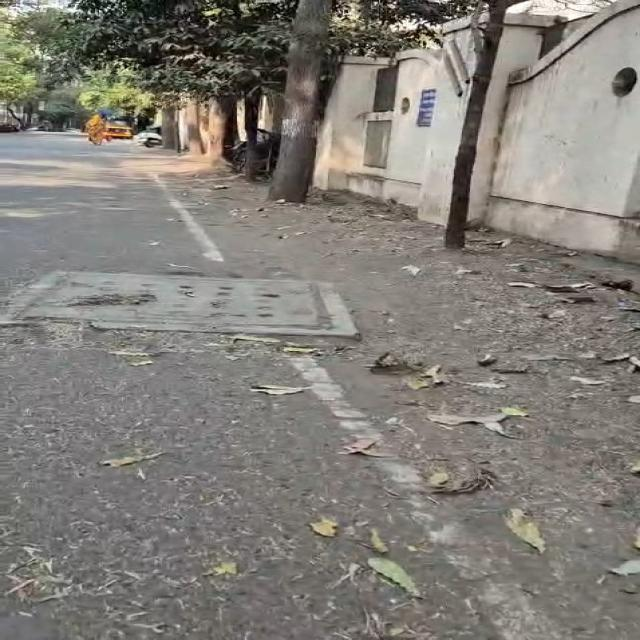obstacle: (445, 0, 510, 249), (270, 0, 330, 202), (244, 89, 261, 179), (207, 97, 228, 166), (220, 96, 238, 161), (185, 100, 204, 156), (161, 107, 178, 150), (6, 104, 25, 129)
person: (86, 112, 108, 145)
pothole: (7, 271, 365, 345)
